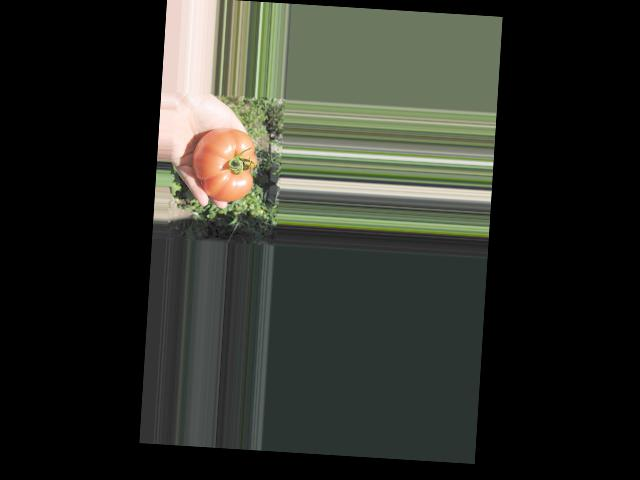tomato: (190, 127, 258, 204)
